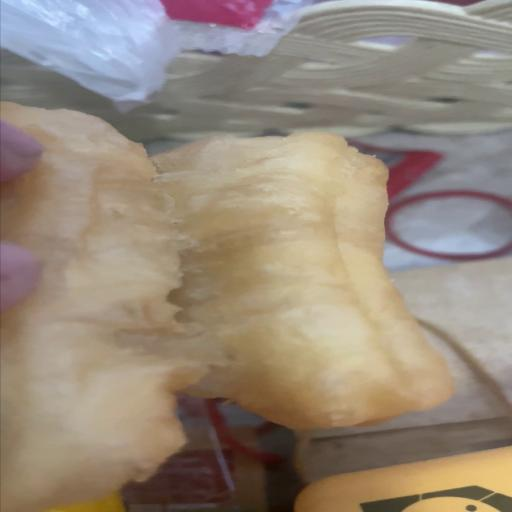street_golden_defect: (0, 125, 454, 512)
